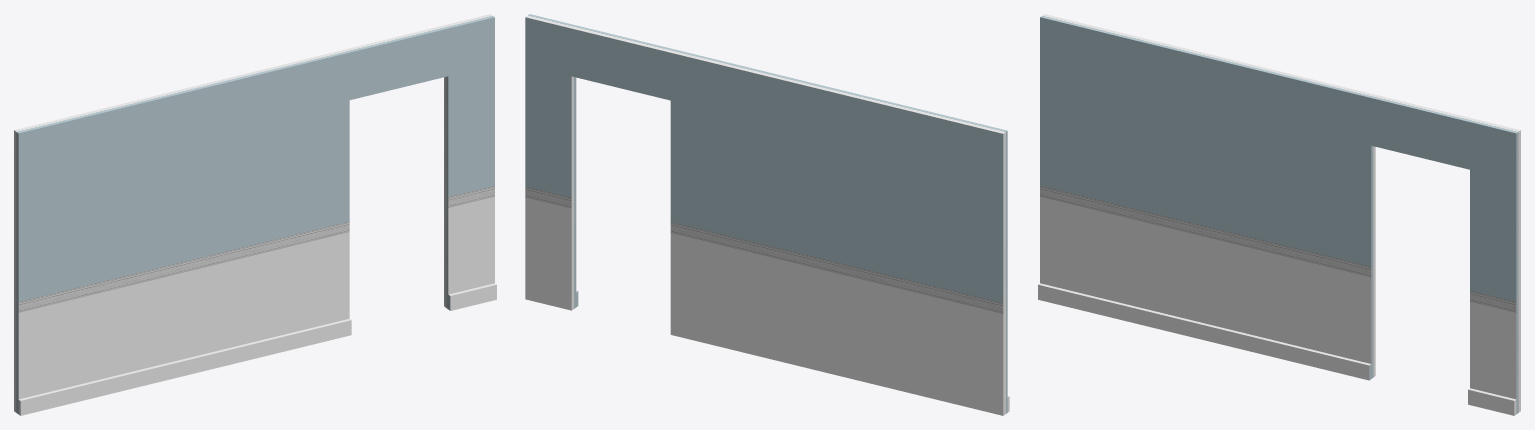
File: Door wall.FBX
The picture shows the model from 3 angles, left to right: view 1: azimuth 30°, elevation 25°; view 2: azimuth 150°, elevation 25°; view 3: azimuth 330°, elevation 25°; orthographic projection.
Parts seen in each view (by area): view 1: door wall; view 2: door wall; view 3: door wall.
Boxes of the visible parts, x1,y1,x2,y2 form: door wall: (14,14,496,415); door wall: (525,14,1009,415); door wall: (1038,14,1520,415).
Size of the model in its own units: 551 by 311 by 12.86.
Materials: 2 (1 with a texture image).
